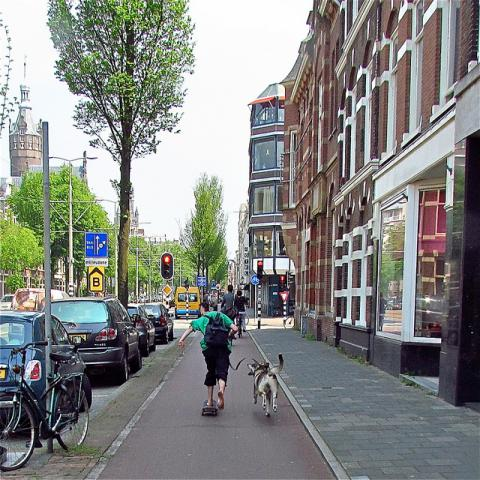car: (1, 306, 93, 432), (51, 296, 142, 381), (10, 288, 72, 314), (139, 302, 176, 344), (130, 303, 156, 355), (140, 296, 147, 302)
